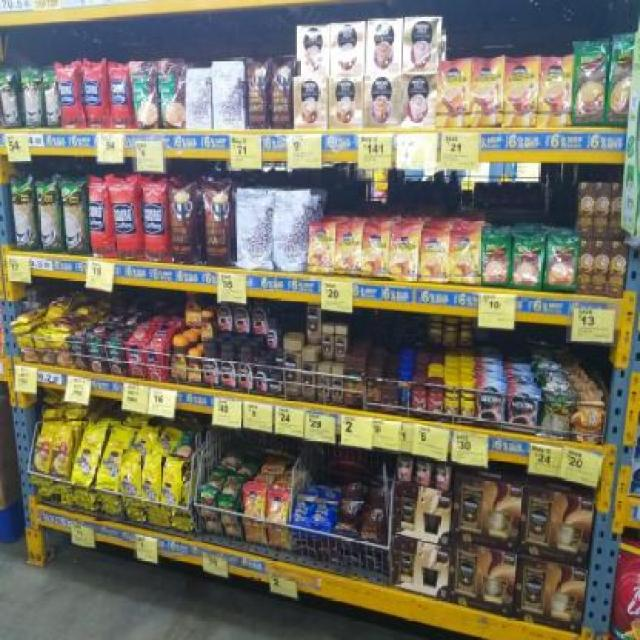Coffee: (537, 58, 572, 127), (470, 57, 505, 125), (503, 60, 539, 125), (436, 60, 469, 126), (449, 232, 480, 285), (419, 234, 449, 284), (362, 230, 390, 278), (390, 232, 418, 280), (509, 389, 536, 434), (335, 225, 360, 272), (309, 225, 333, 272), (479, 386, 504, 429), (285, 340, 300, 398), (220, 343, 236, 388), (302, 349, 316, 399), (204, 342, 219, 387), (238, 345, 253, 390), (244, 485, 264, 518), (269, 492, 288, 522), (306, 304, 320, 344), (173, 340, 187, 380), (185, 292, 200, 328), (254, 360, 268, 394), (318, 366, 330, 400), (201, 312, 214, 342), (332, 368, 343, 403), (188, 354, 200, 384), (322, 326, 332, 360), (336, 327, 346, 361), (269, 375, 282, 394), (273, 350, 282, 368)
